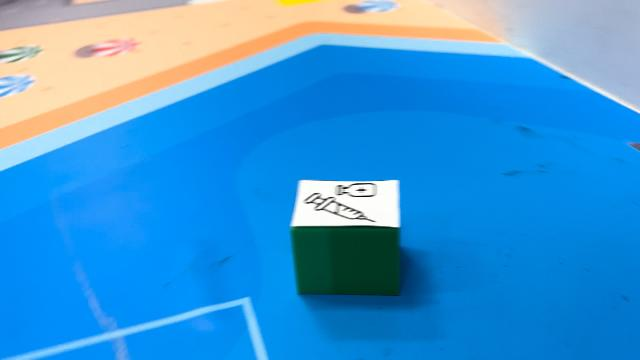syringe: (289, 178, 401, 296)
